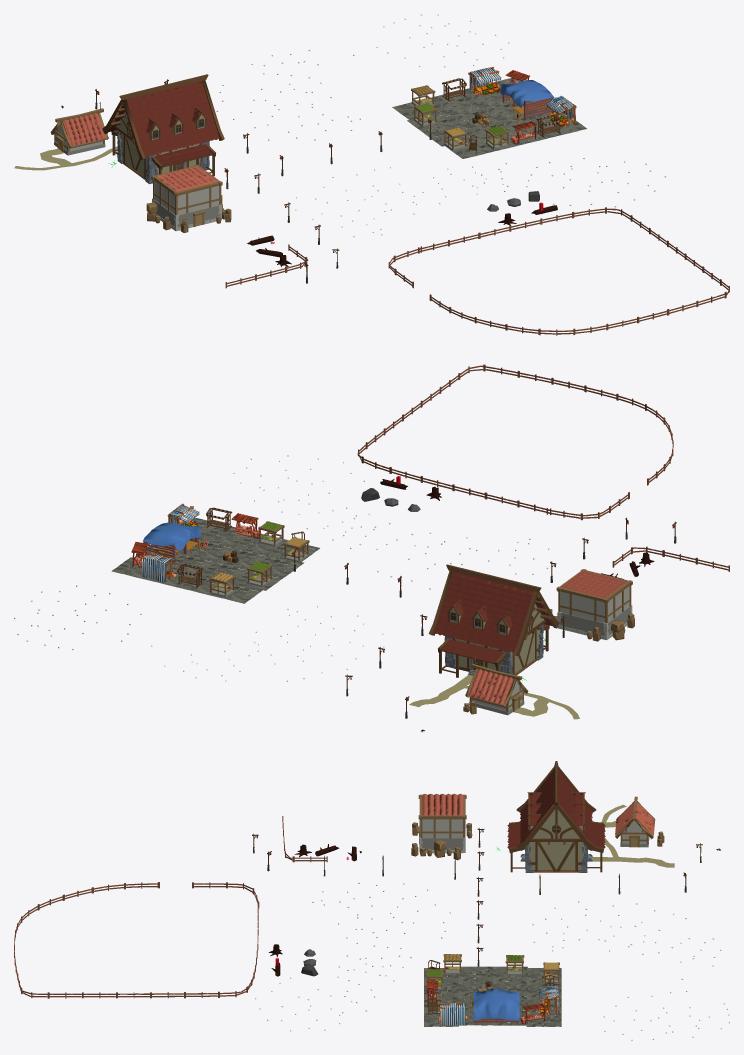
Rendered from chunk_2_1.glb.
3 renders of one model, top to bottom at view 1: azimuth 30°, elevation 25°; view 2: azimuth 150°, elevation 25°; view 3: azimuth 270°, elevation 25°, orthographic. The views are drawn at different scales.
Parts seen in each view (by area): view 1: Inn, Wall.002, Storage_SecondAge_Level2, Fence_Cube.008, Houses_SecondAge_1_Level2, Cube_6_2, Market_SecondAge_Level1.001, Market_SecondAge_Level1.002, Cube.057_Medieval_0, Plane.014, Cube.057_Medieval_0.001; view 2: Inn, Wall.002, Storage_SecondAge_Level2, Fence_Cube.008, Houses_SecondAge_1_Level2, Cube_6_2, Plane.014, Market_SecondAge_Level1.001, Market_SecondAge_Level1.002, Cube.057_Medieval_0; view 3: Inn, Wall.002, Storage_SecondAge_Level2, Fence_Cube.008, Houses_SecondAge_1_Level2, Cube_6_2, Plane.014, Market_SecondAge_Level1.002, Cube.057_Medieval_0.001, Market_SecondAge_Level1.001.
Boxes of the visible parts, x1=… form: Inn: x1=102, y1=74, x2=224, y2=184; Wall.002: x1=392, y1=78, x2=586, y2=158; Storage_SecondAge_Level2: x1=146, y1=164, x2=231, y2=232; Fence_Cube.008: x1=388, y1=207, x2=729, y2=335; Houses_SecondAge_1_Level2: x1=50, y1=102, x2=108, y2=155; Cube_6_2: x1=500, y1=80, x2=554, y2=120; Market_SecondAge_Level1.001: x1=443, y1=125, x2=509, y2=150; Market_SecondAge_Level1.002: x1=411, y1=85, x2=437, y2=126; Cube.057_Medieval_0: x1=468, y1=67, x2=501, y2=95; Plane.014: x1=14, y1=146, x2=117, y2=170; Cube.057_Medieval_0.001: x1=546, y1=96, x2=576, y2=126; Inn: x1=428, y1=564, x2=559, y2=677; Wall.002: x1=111, y1=517, x2=319, y2=603; Storage_SecondAge_Level2: x1=550, y1=569, x2=634, y2=641; Fence_Cube.008: x1=357, y1=364, x2=673, y2=520; Houses_SecondAge_1_Level2: x1=463, y1=657, x2=528, y2=715; Cube_6_2: x1=143, y1=522, x2=208, y2=562; Plane.014: x1=409, y1=675, x2=579, y2=719; Market_SecondAge_Level1.001: x1=258, y1=521, x2=309, y2=562; Market_SecondAge_Level1.002: x1=209, y1=561, x2=272, y2=597; Cube.057_Medieval_0: x1=140, y1=552, x2=176, y2=582; Inn: x1=507, y1=761, x2=605, y2=872; Wall.002: x1=424, y1=966, x2=561, y2=1026; Storage_SecondAge_Level2: x1=411, y1=793, x2=472, y2=860; Fence_Cube.008: x1=14, y1=882, x2=259, y2=998; Houses_SecondAge_1_Level2: x1=615, y1=796, x2=664, y2=847; Cube_6_2: x1=472, y1=989, x2=519, y2=1023; Plane.014: x1=591, y1=804, x2=674, y2=867; Market_SecondAge_Level1.002: x1=505, y1=955, x2=559, y2=983; Cube.057_Medieval_0.001: x1=437, y1=1002, x2=467, y2=1025; Market_SecondAge_Level1.001: x1=426, y1=954, x2=461, y2=990.
Size of the model in its own units: 104 by 16.37 by 134.
58 materials, 1 textured.
